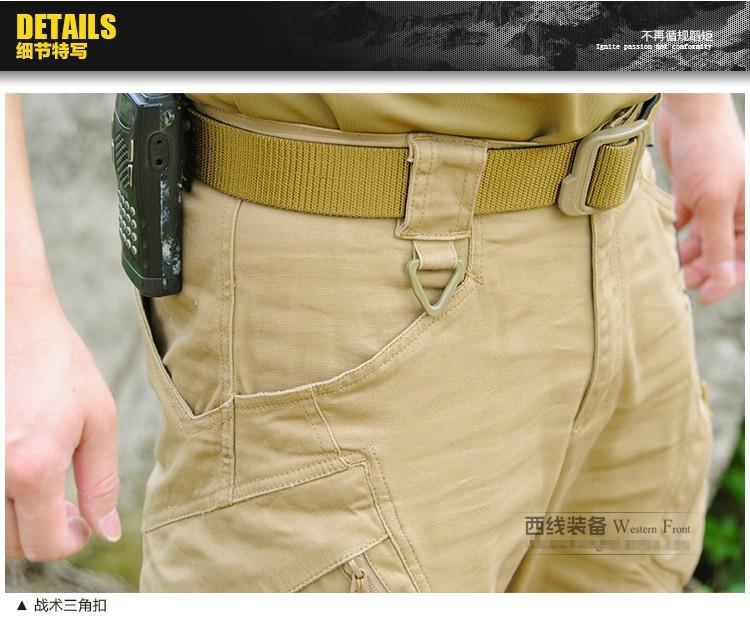pants: (148, 106, 697, 592)
